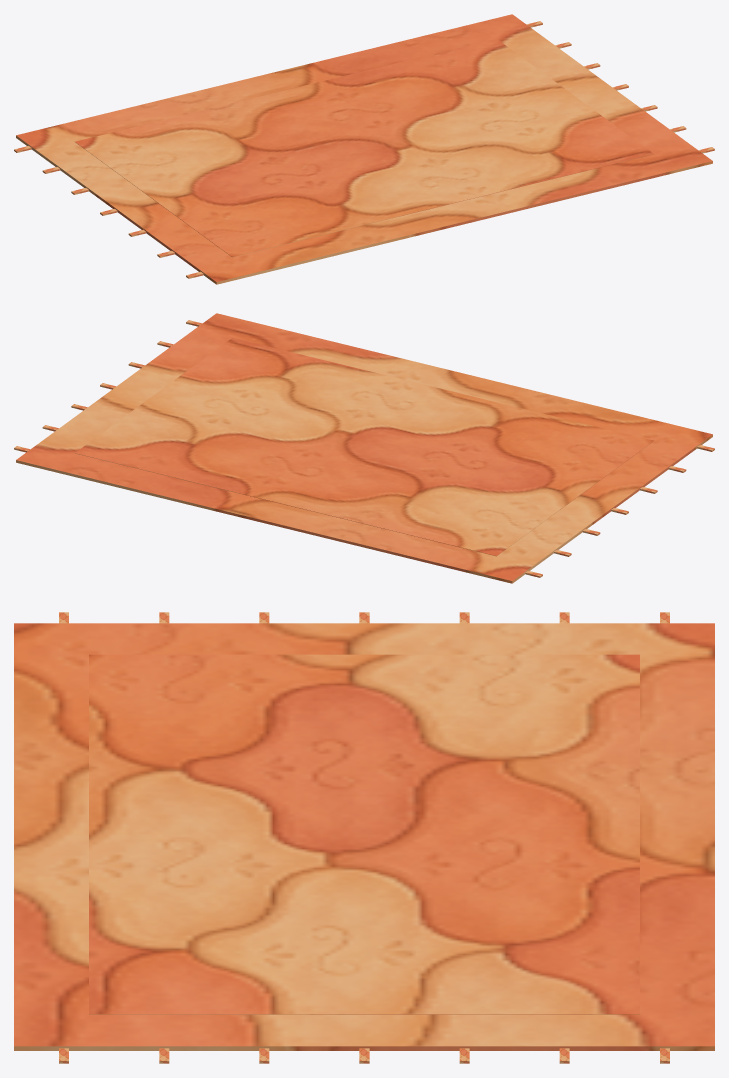
File: Rug.fbx
3 views of the same model, one above another, from view 1: azimuth 30°, elevation 25°; view 2: azimuth 150°, elevation 25°; view 3: azimuth 270°, elevation 25° (orthographic). The views are drawn at different scales.
Visible parts, largest first — view 1: Rug; view 2: Rug; view 3: Rug.
Boxes of the visible parts, x1=… form: Rug: x1=14, y1=14, x2=714, y2=284; Rug: x1=14, y1=313, x2=714, y2=583; Rug: x1=14, y1=612, x2=714, y2=1063.
Size of the model in its own units: 2.12 by 0.011 by 1.4.
